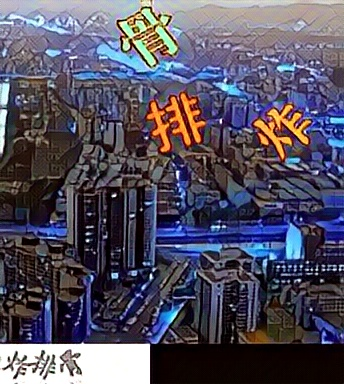B9C7: (118, 4, 183, 69)
C5C5: (144, 88, 209, 153)
D5A8: (251, 100, 316, 165)
